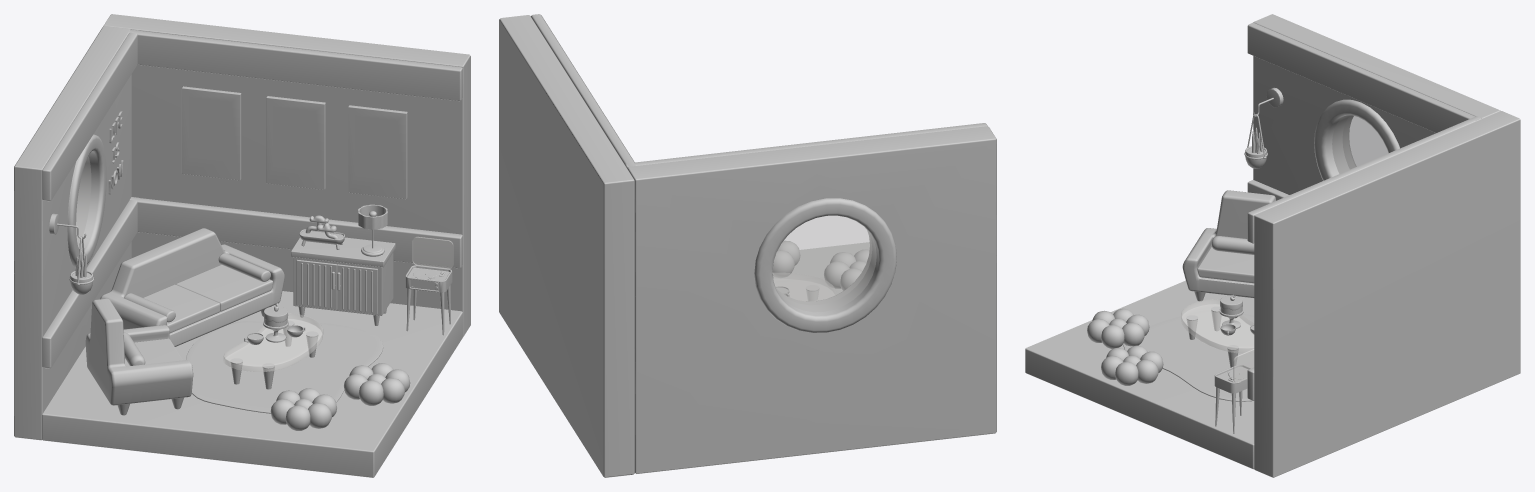
The model's file is Living_Room_36.fbx.
3 views of the same model, side by side, from view 1: azimuth 30°, elevation 25°; view 2: azimuth 150°, elevation 25°; view 3: azimuth 270°, elevation 25° (orthographic). The views are drawn at different scales.
Visible parts, largest first — view 1: Room_36_Wall_2, Room_36_Wall_1, Room_36_Floor_1, Room_36_Couch_1, Room_36_Carpet_1, Room_36_Armchair_1, Room_36_RooM_16_Cabinet_1, Room_36_Painting_1, Room_36_Painting_3, Room_36_Painting_2, Room_36_WIndow_1, Room_36_RooM_16_Table_1 (+7 smaller); view 2: Room_36_Wall_1, Room_36_Wall_2, Room_36_WIndow_1, Room_36_Floor_1, Room_36_RooM_16_Table_1, Room_36_Pillow_1, Room_36_Carpet_1, Room_36_Pillow_2; view 3: Room_36_Wall_2, Room_36_Wall_1, Room_36_Floor_1, Room_36_Carpet_1, Room_36_Armchair_1, Room_36_WIndow_1, Room_36_RooM_16_Table_1, Room_36_Pillow_2, Room_36_Pillow_1, Room_36_Vinyl_player_1, Room_36_Wall_Plant_1, Room_36_Pillow_3.
Part boxes in pixels (x1,y1,x2,y2): Room_36_Wall_2: (103,14,470,336); Room_36_Wall_1: (14,26,138,440); Room_36_Floor_1: (42,291,463,477); Room_36_Couch_1: (100,228,284,346); Room_36_Carpet_1: (186,321,383,413); Room_36_Armchair_1: (85,298,193,415); Room_36_RooM_16_Cabinet_1: (291,237,395,325); Room_36_Painting_1: (181,86,241,180); Room_36_Painting_3: (348,105,407,199); Room_36_Painting_2: (266,96,325,189); Room_36_WIndow_1: (67,134,106,267); Room_36_RooM_16_Table_1: (223,313,323,389); Room_36_Wall_1: (625,123,996,473); Room_36_Wall_2: (499,14,635,477); Room_36_WIndow_1: (754,198,896,332); Room_36_Floor_1: (774,242,869,280); Room_36_RooM_16_Table_1: (773,273,836,301); Room_36_Pillow_1: (824,249,869,290); Room_36_Carpet_1: (774,277,842,300); Room_36_Pillow_2: (772,240,800,277); Room_36_Wall_2: (1247,111,1520,477); Room_36_Wall_1: (1247,14,1500,200); Room_36_Floor_1: (1025,280,1254,469); Room_36_Carpet_1: (1123,310,1254,401); Room_36_Armchair_1: (1182,190,1275,301); Room_36_WIndow_1: (1314,99,1399,180); Room_36_RooM_16_Table_1: (1181,299,1254,367); Room_36_Pillow_2: (1101,345,1163,385); Room_36_Pillow_1: (1087,308,1149,348); Room_36_Vinyl_player_1: (1214,349,1254,433); Room_36_Wall_Plant_1: (1244,87,1283,168); Room_36_Pillow_3: (1212,236,1254,254).
Bounding box in the file's own units: 703 × 400 × 703.
